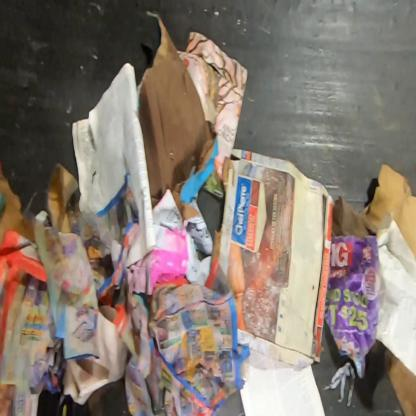cardboard: (210, 149, 334, 368), (136, 13, 218, 222), (0, 230, 67, 415), (361, 163, 415, 266), (0, 170, 34, 246), (381, 347, 415, 415), (46, 162, 78, 233), (332, 196, 370, 240)
soft_plastic: (126, 224, 188, 295), (68, 198, 122, 262)
